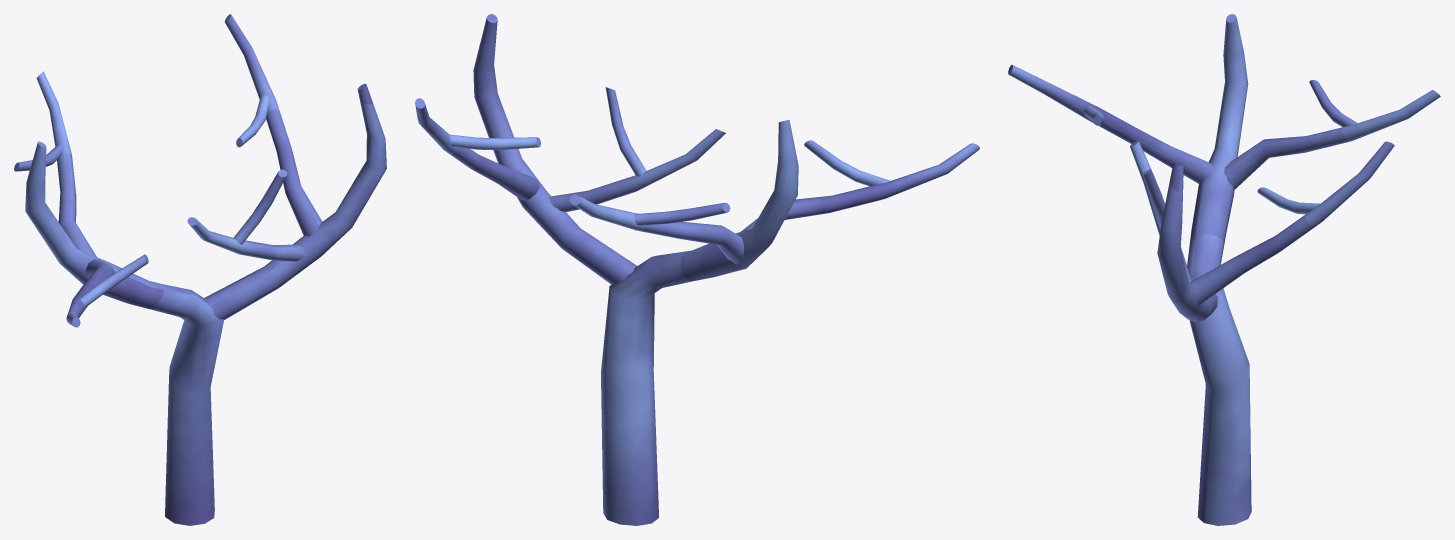
File: DeadTree_4.obj
3 renders of one model, left to right at view 1: azimuth 30°, elevation 25°; view 2: azimuth 150°, elevation 25°; view 3: azimuth 270°, elevation 25°, orthographic. The views are drawn at different scales.
Visible parts, largest first — view 1: DeadTree_4_Cylinder.042; view 2: DeadTree_4_Cylinder.042; view 3: DeadTree_4_Cylinder.042.
Part boxes in pixels (x1=…): DeadTree_4_Cylinder.042: x1=14, y1=14, x2=386, y2=525; DeadTree_4_Cylinder.042: x1=415, y1=14, x2=979, y2=525; DeadTree_4_Cylinder.042: x1=1008, y1=14, x2=1440, y2=525.
Size of the model in its own units: 4.89 by 4.98 by 4.48.
Materials: 1 (1 with a texture image).
